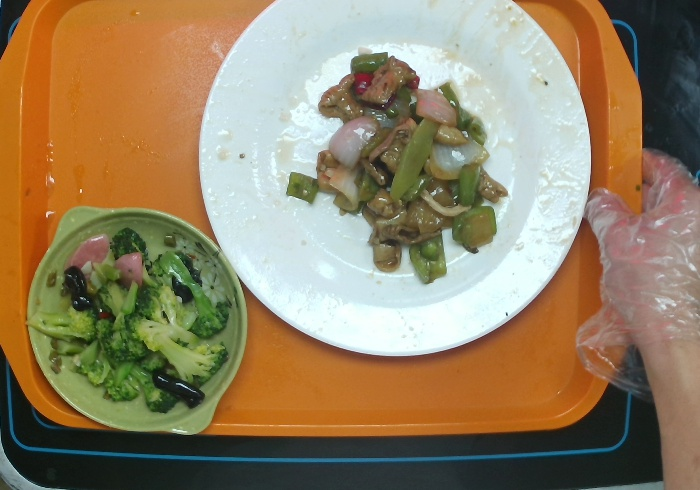NLDX-Da_Yuan_Pan: (189, 1, 598, 362)
NLDX-Lv_Hua_Shuang_Er_Die: (24, 196, 253, 443)
